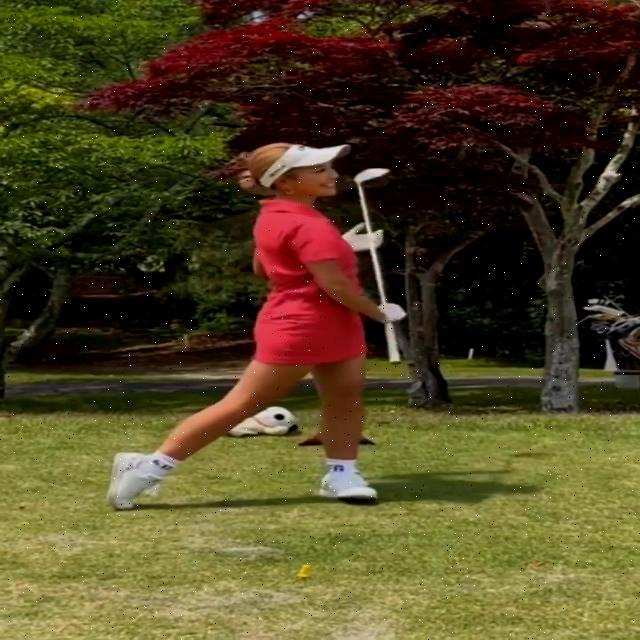ClubHandle: (352, 169, 410, 365)
ClubHead: (355, 168, 398, 186)
